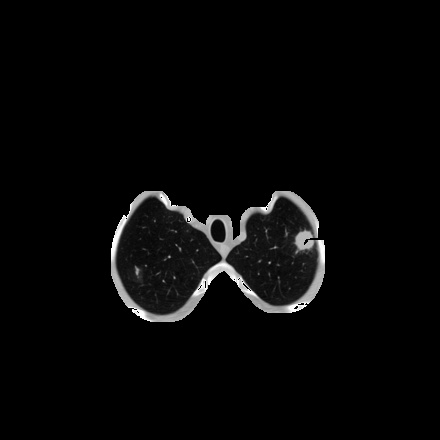PN: (294, 230, 314, 250)
